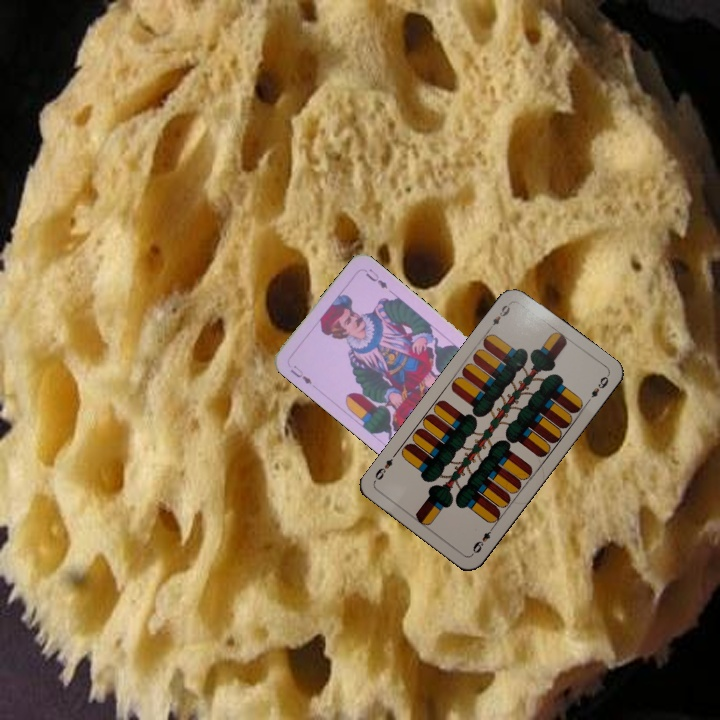E9: (484, 299, 514, 333), (468, 522, 497, 557)
EU: (286, 361, 314, 387)
